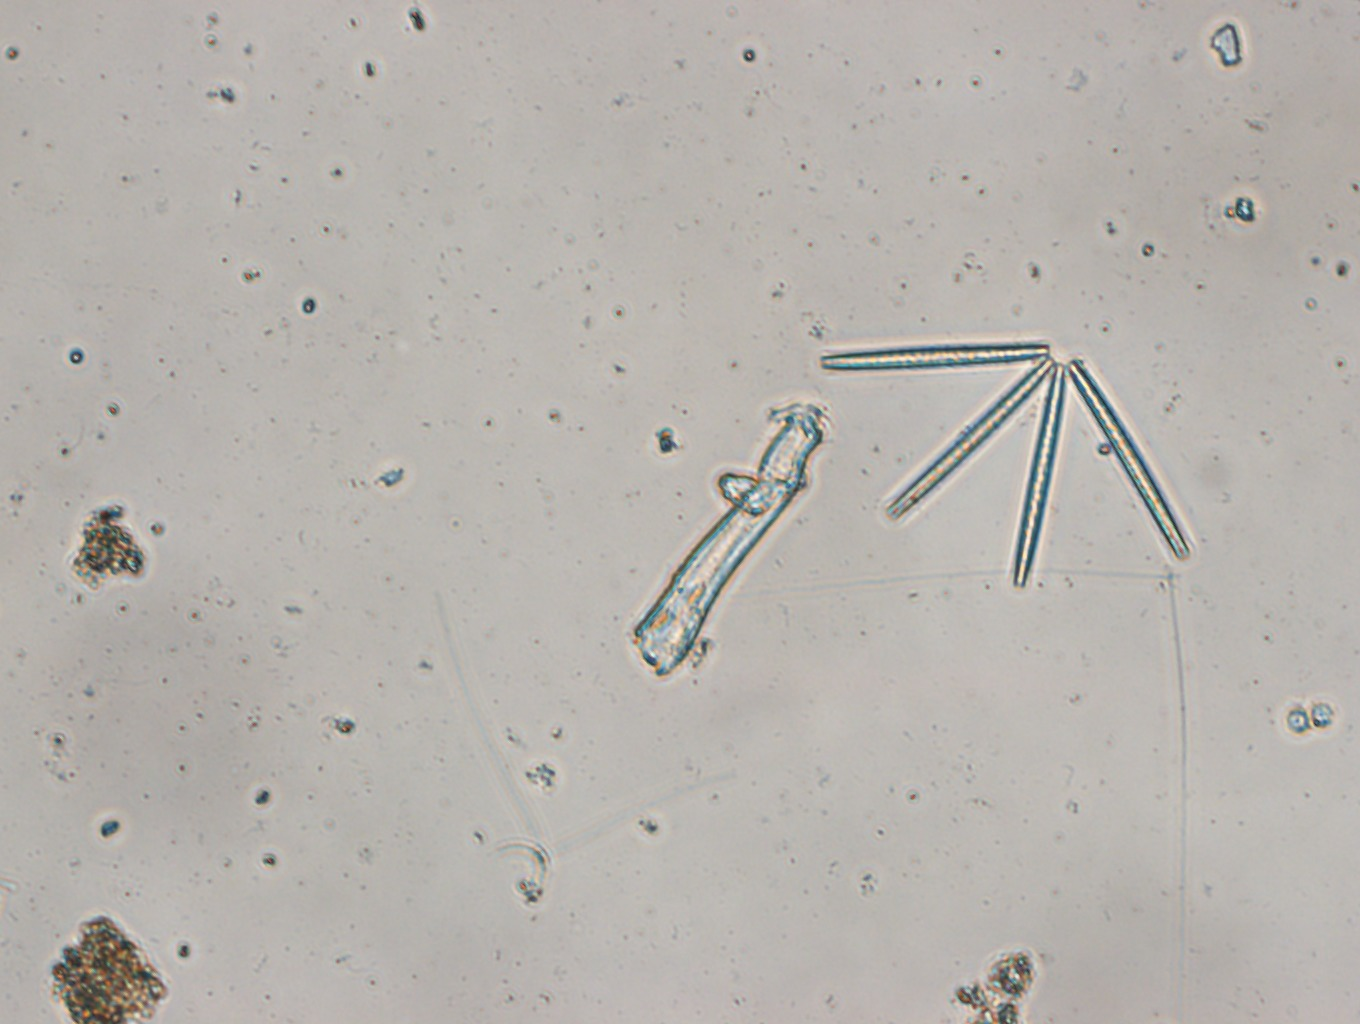thalassionema frauenfeldii: (825, 330, 1194, 600)
